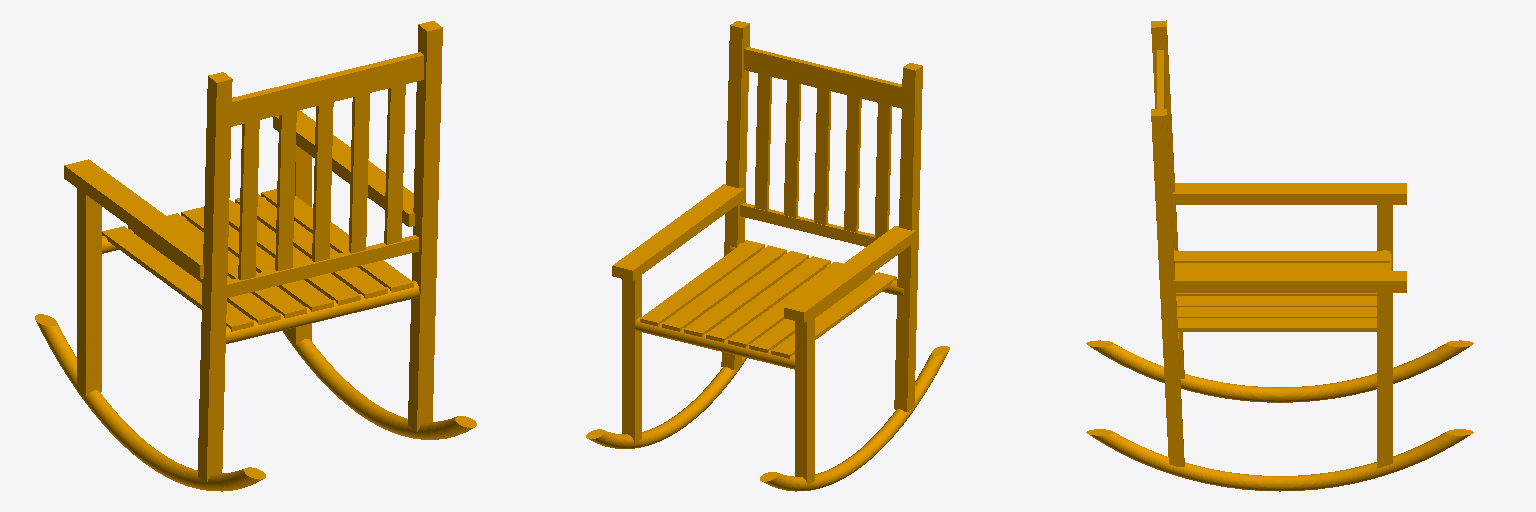
The robot description file, URDF, robot "mesh_object":
<robot name="mesh_object">
            <link name="base">
                <visual>
                    <geometry>
                        <mesh filename="rocking_chair_4.obj" scale="1 1 1" />
                    </geometry>
                </visual>
                <collision>
                    <geometry>
                        <mesh filename="rocking_chair_4.obj" scale="1 1 1" />
                    </geometry>
                </collision>
                <inertial>
                    <origin xyz="0.000000 0.000000 0.029133" rpy="0 0 0" />
                    <mass value="0.5" />
                    <inertia ixx="0.01" iyy="0.01" izz="0.01" ixy="0" ixz="0" iyz="0" />
                </inertial>
            </link>
            </robot>

--- Facts derived from the render (not from the file) ---
Views: 3 orthographic renders of the robot side by side, from view 1: azimuth 30°, elevation 25°; view 2: azimuth 150°, elevation 25°; view 3: azimuth 270°, elevation 25°.
Robot: mesh_object — 1 links, 0 joints (none); root link base; default pose: every joint at zero.
Links seen in each view (by area): view 1: base; view 2: base; view 3: base.
Link boxes in pixels (left/top/right/bottom): base: left=35, top=21, right=476, bottom=491; base: left=586, top=21, right=949, bottom=491; base: left=1086, top=20, right=1473, bottom=491.
Bounding box of the posed robot: 0.0324 × 0.0541 × 0.0583 m (x, y, z).
1 mesh visuals loaded from 1 distinct referenced files (1 OBJ).
